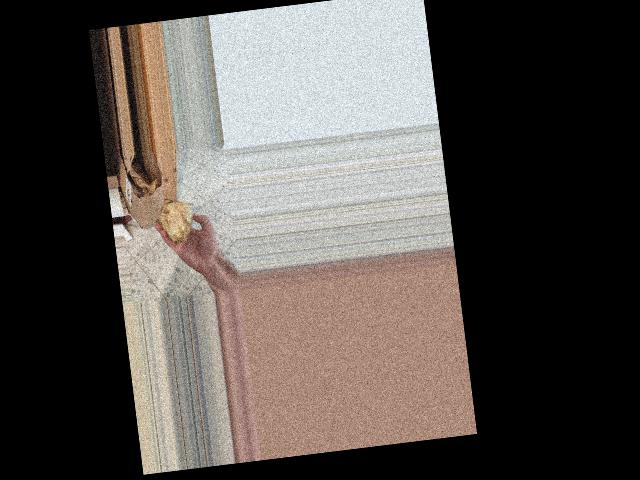onion: (154, 195, 196, 245)
